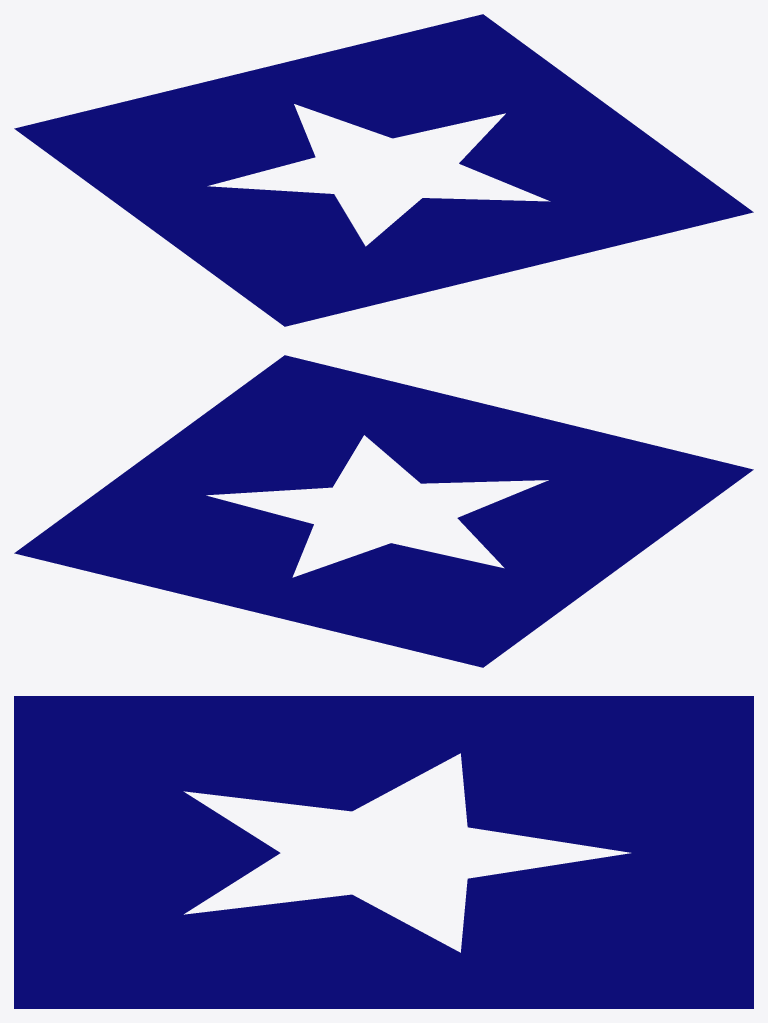
The model's file is quad_star.fbx.
3 views of the same model, one above another, from view 1: azimuth 30°, elevation 25°; view 2: azimuth 150°, elevation 25°; view 3: azimuth 270°, elevation 25° (orthographic). The views are drawn at different scales.
Parts seen in each view (by area): view 1: QuadStar; view 2: QuadStar; view 3: QuadStar.
Boxes of the visible parts, bbox=[...] form: QuadStar: bbox=[14, 14, 753, 326]; QuadStar: bbox=[14, 355, 753, 667]; QuadStar: bbox=[14, 696, 753, 1008].
Size of the model in its own units: 0.9636 by 0.9634 by 2.3e-07.
